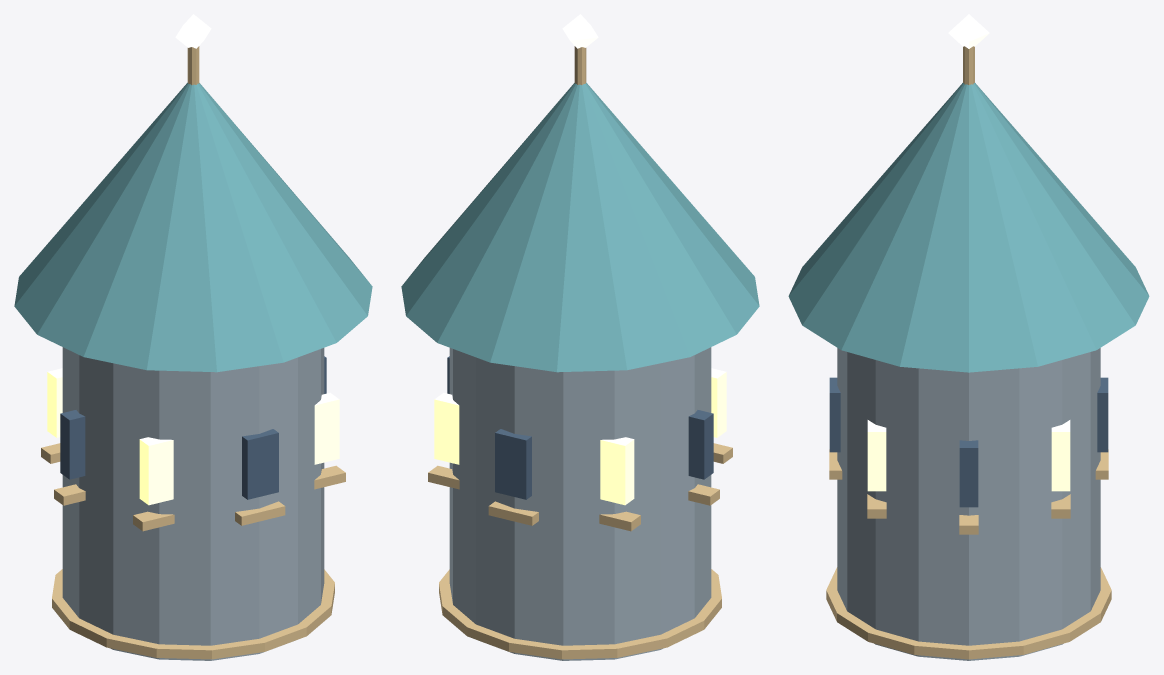
File: mini-torre-v9.glb
3 views of the same model, side by side, from view 1: azimuth 30°, elevation 25°; view 2: azimuth 150°, elevation 25°; view 3: azimuth 270°, elevation 25° (orthographic).
Bounding box in the file's own units: 4.3 × 7.77 × 4.3.
